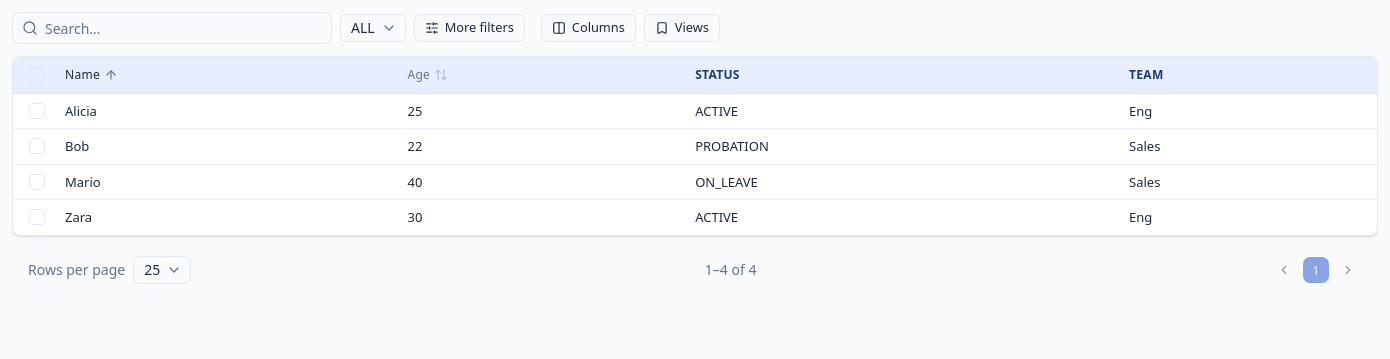
Test: HrisDataTable › selects rows and reports a count
Click the checkbox named "Select 1" at (37, 218), box top-left (29, 210), bottom-right (45, 226)
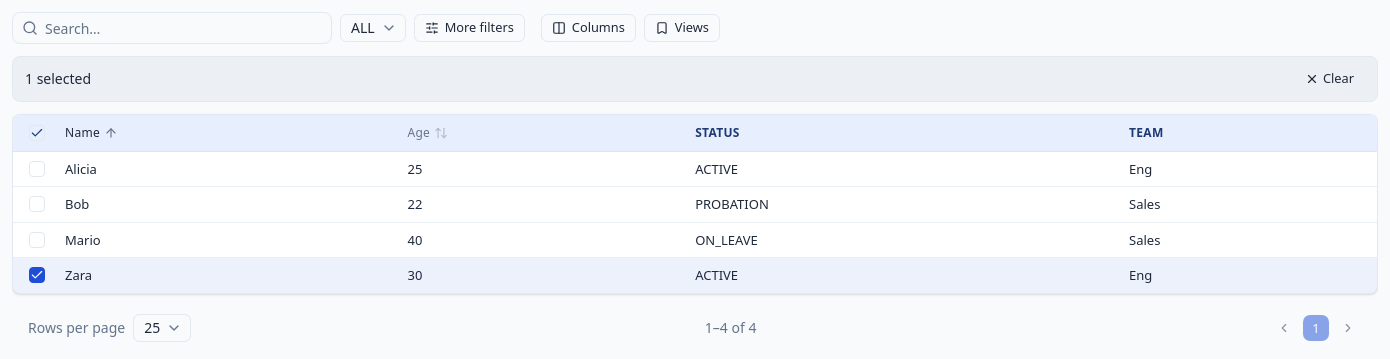
Expected: the element named "1 rows selected" is shown, top-left (12, 56), bottom-right (1378, 102)
Click the checkbox named "Select this page" at (37, 133), box top-left (29, 125), bottom-right (45, 141)
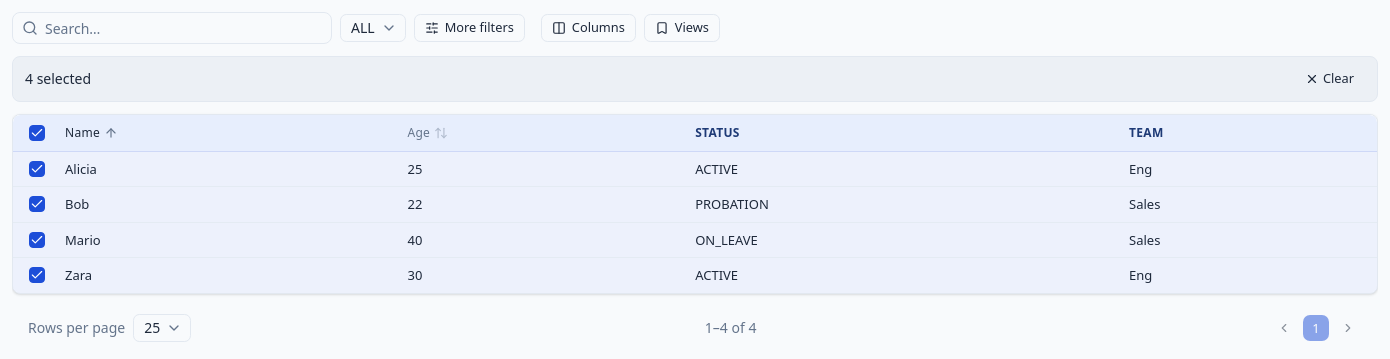
Expected: the element named "4 rows selected" is shown, top-left (12, 56), bottom-right (1378, 102)
